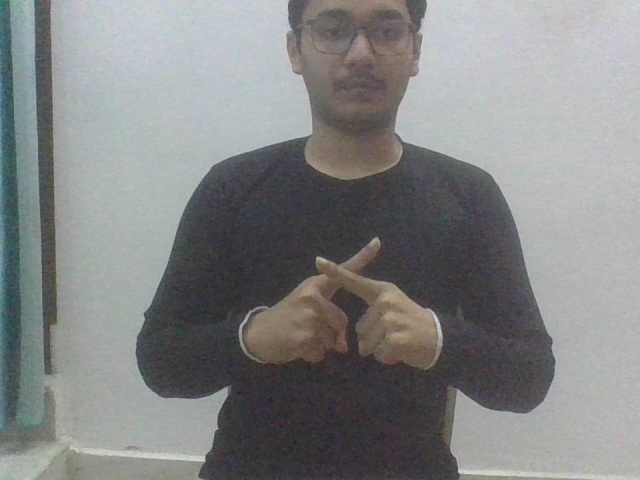X: (237, 235, 441, 368)
